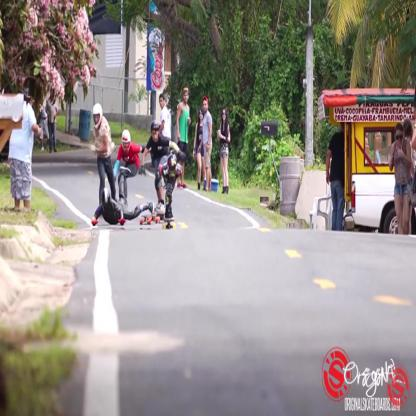Fall_Down: (89, 165, 156, 232)
